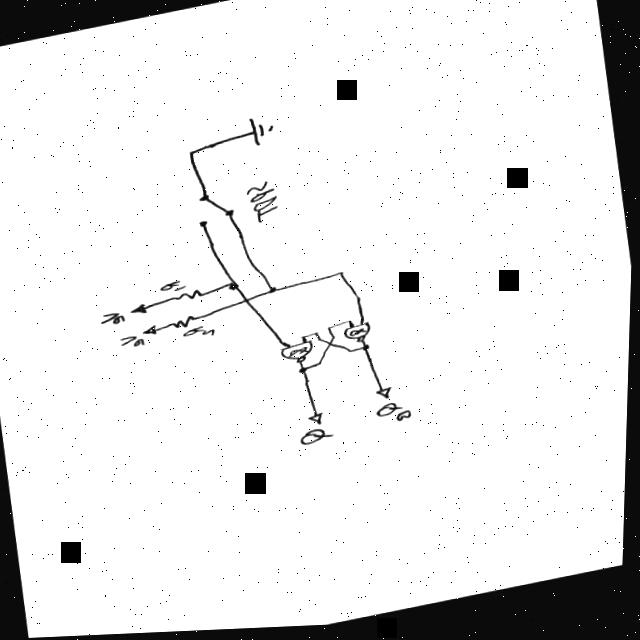crossover: (240, 298, 253, 308), (328, 345, 335, 350)
ground: (245, 115, 277, 151)
junction: (227, 283, 242, 294), (185, 150, 198, 160), (267, 288, 280, 298), (299, 369, 310, 377), (361, 347, 372, 355), (336, 273, 346, 280), (316, 364, 326, 370), (346, 352, 355, 358), (326, 329, 334, 334), (347, 323, 355, 328), (301, 338, 308, 343), (314, 334, 320, 339), (318, 341, 324, 346), (332, 339, 338, 343)
resistor: (164, 316, 200, 334), (172, 289, 209, 306)
source: (130, 303, 151, 318), (141, 325, 162, 339)
switch: (191, 191, 237, 230)
terminal: (307, 414, 328, 430), (376, 390, 396, 404)
text: (244, 181, 283, 227), (374, 403, 417, 431), (299, 429, 334, 450), (181, 325, 217, 344), (99, 311, 127, 329), (159, 280, 188, 297), (120, 335, 146, 352)
